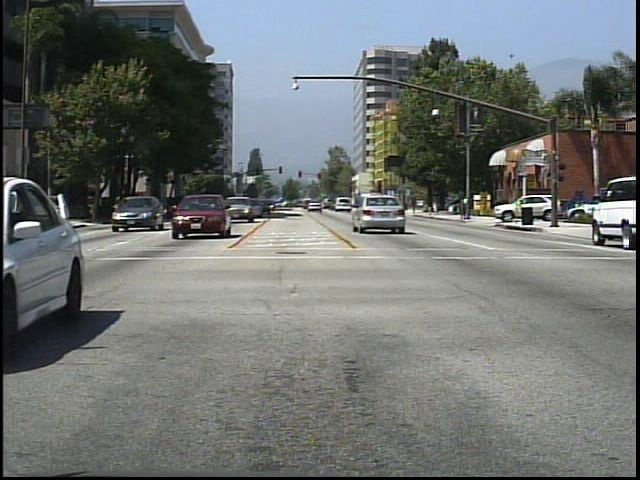person: (457, 189, 472, 221), (430, 190, 444, 217)
